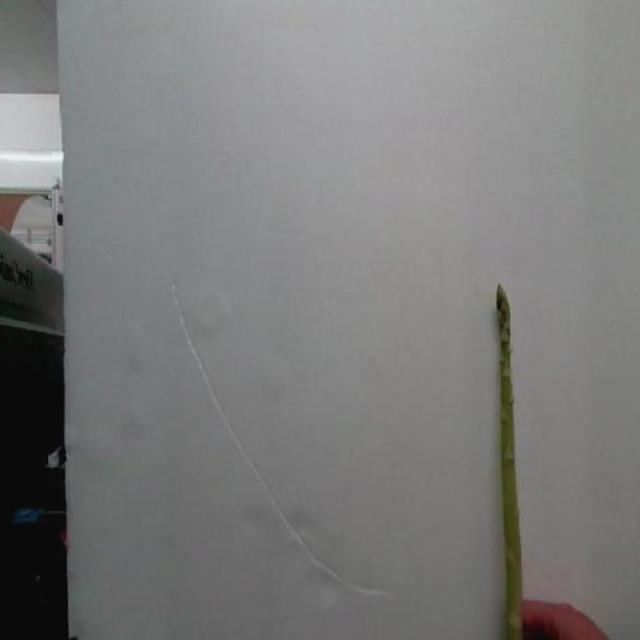aspargus: (497, 287, 526, 640)
